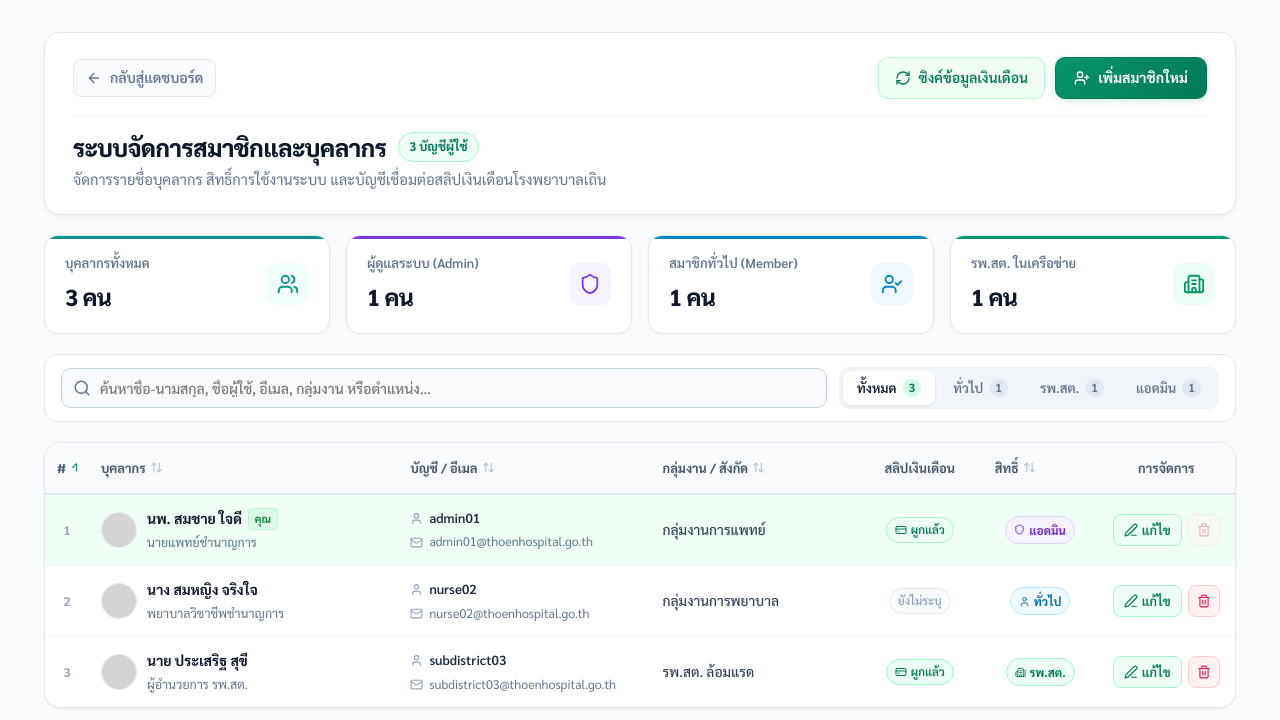
MembersAdminClient Component › filters members by search query
Replace the text in the field with placeholder "ค้นหาชื่อ-นามสกุล" with "สมหญิง" at {"x": 444, "y": 388}, box [61,368,827,408]
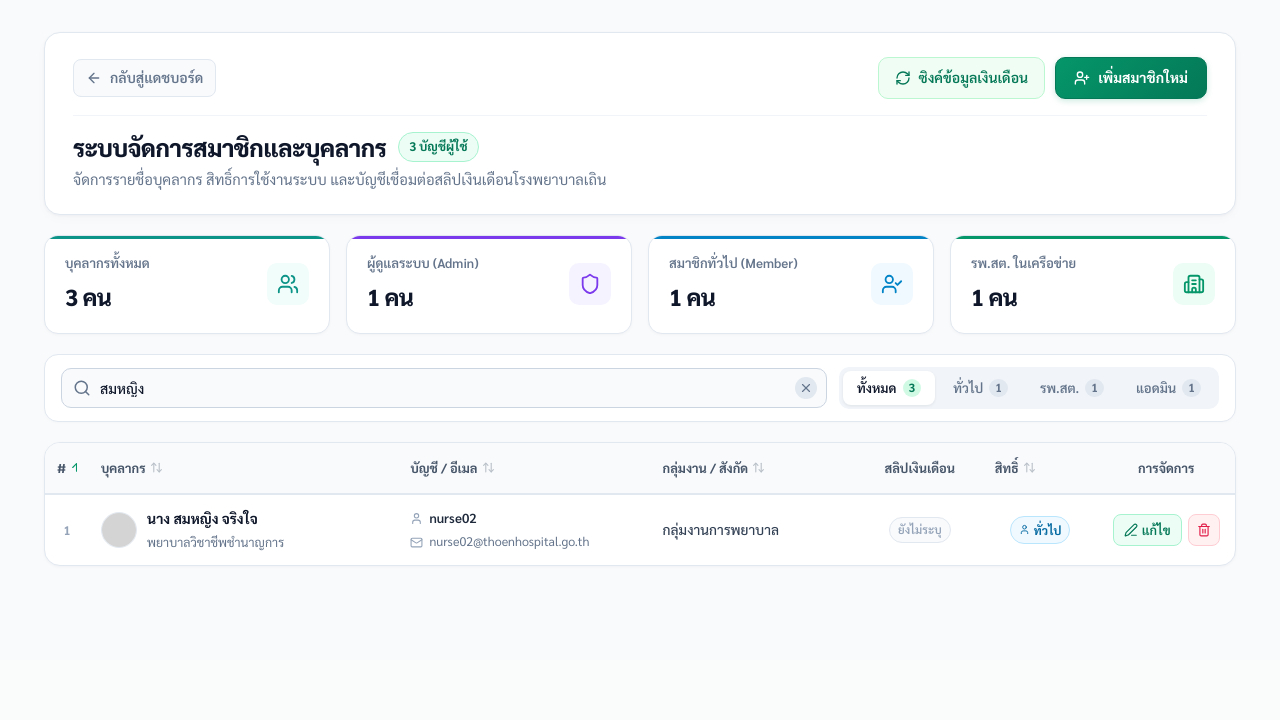
expect the text "นาย ประเสริฐ สุขี" is gone: met
